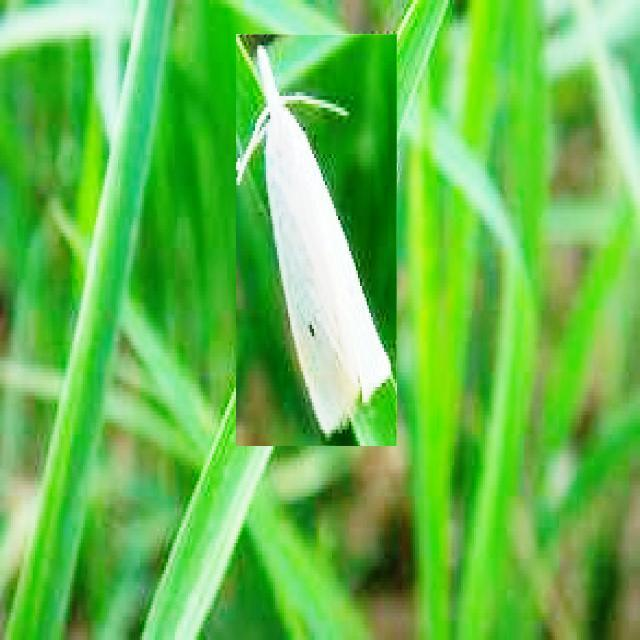stem-borer: (237, 35, 396, 446)
